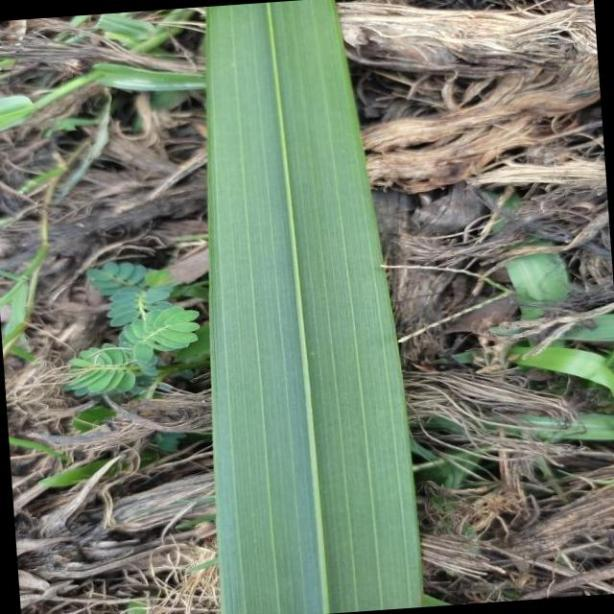Healthy: (200, 0, 428, 610)
